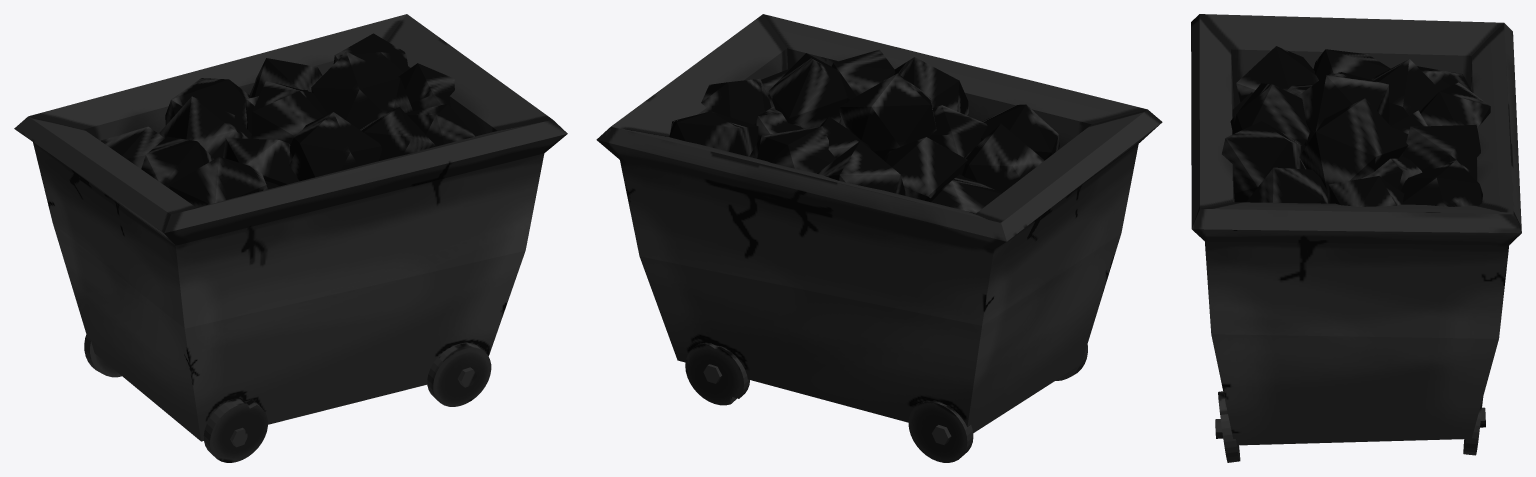
File: MinecartWithCoalsfbx.fbx
3 views of the same model, side by side, from view 1: azimuth 30°, elevation 25°; view 2: azimuth 150°, elevation 25°; view 3: azimuth 270°, elevation 25° (orthographic). The views are drawn at different scales.
Visible parts, largest first — view 1: Minecart, Coals; view 2: Minecart, Coals; view 3: Minecart, Coals.
Boxes of the visible parts, bbox=[...] form: Minecart: bbox=[14, 14, 567, 462]; Coals: bbox=[101, 33, 474, 207]; Minecart: bbox=[596, 14, 1162, 462]; Coals: bbox=[669, 49, 1059, 213]; Minecart: bbox=[1191, 14, 1521, 462]; Coals: bbox=[1222, 46, 1490, 206].
Bounding box in the file's own units: 1.75 × 1.32 × 1.17.
